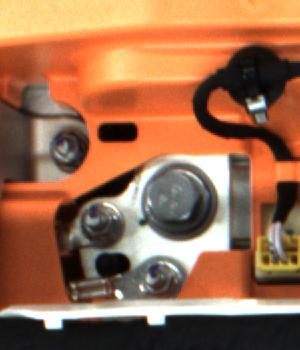nut_b: (142, 165, 225, 232)
screw_s: (81, 200, 124, 246), (136, 256, 181, 297), (53, 134, 81, 169)
